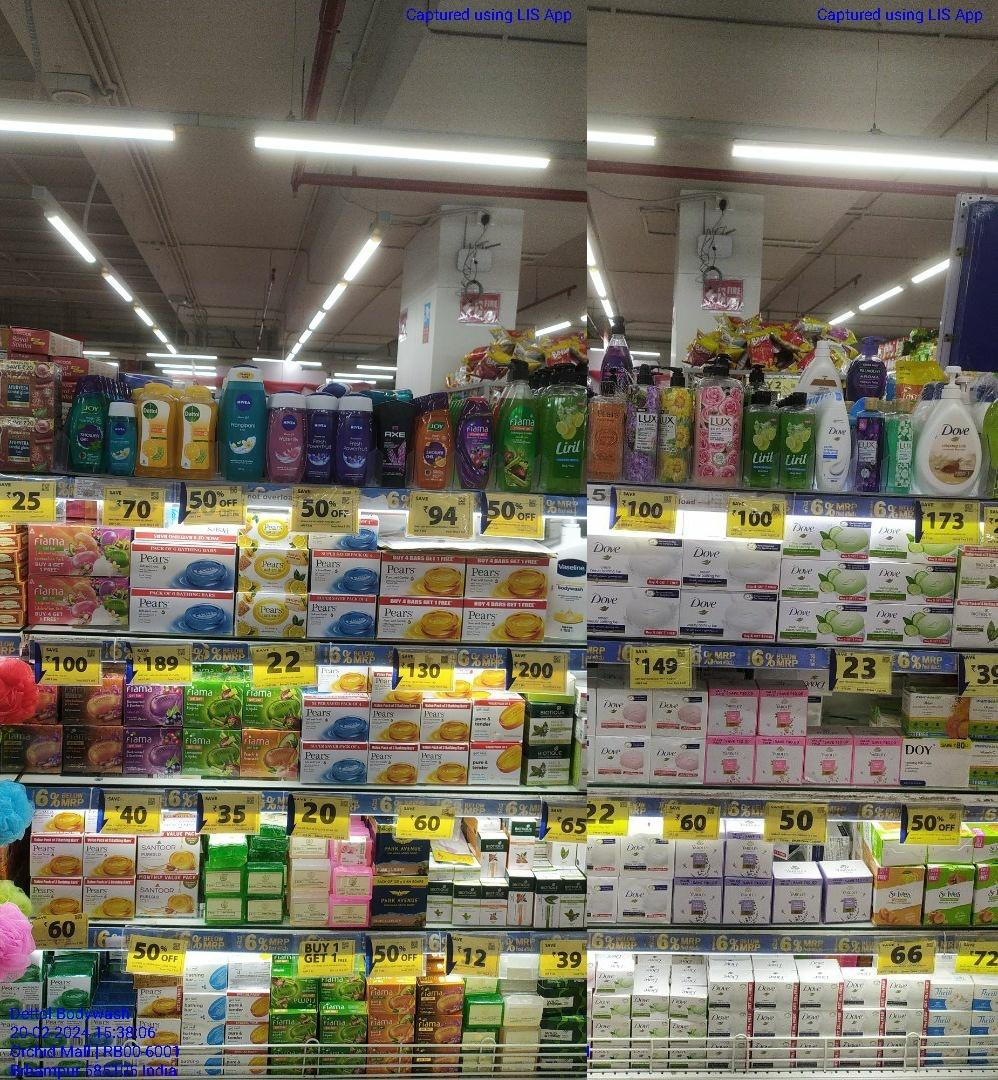Dettol_Bodywash_Refresh: (139, 382, 177, 478), (179, 386, 218, 479)
Dove_Gentle_Exfoliating_Body_Wash_250ML: (817, 389, 851, 492)
Joy_Shower_Gel_Mandarin_and_Lemongrass_250ML: (416, 391, 452, 489)
Joy_Shower_Gel_Mint_and_Eucalyptus_250ML: (71, 374, 107, 476)
Liril_Lime_and_Tea_Tree_Oil_Body_Wash_250ML: (745, 390, 779, 490), (782, 391, 815, 488)
Lux_Black_Orchid_Scent_and_Juniper_Oil_Body_Wash_245ML: (856, 395, 882, 493)
Lux_Body_Wash_Skin_Detox_Freesia_Scent_and_Alove_Vera_245ML: (886, 394, 913, 494)
Nivea_Shower_Gel_Frangipani_and_Oil_250ML: (219, 361, 266, 482), (108, 401, 136, 475)
Nivea_Shower_Gel_Fresh_Powerfruit_250ML: (339, 392, 372, 484), (309, 392, 337, 483)
Nivea_Shower_Gel_Waterlily_and_Oil_250ML: (269, 390, 306, 482)
